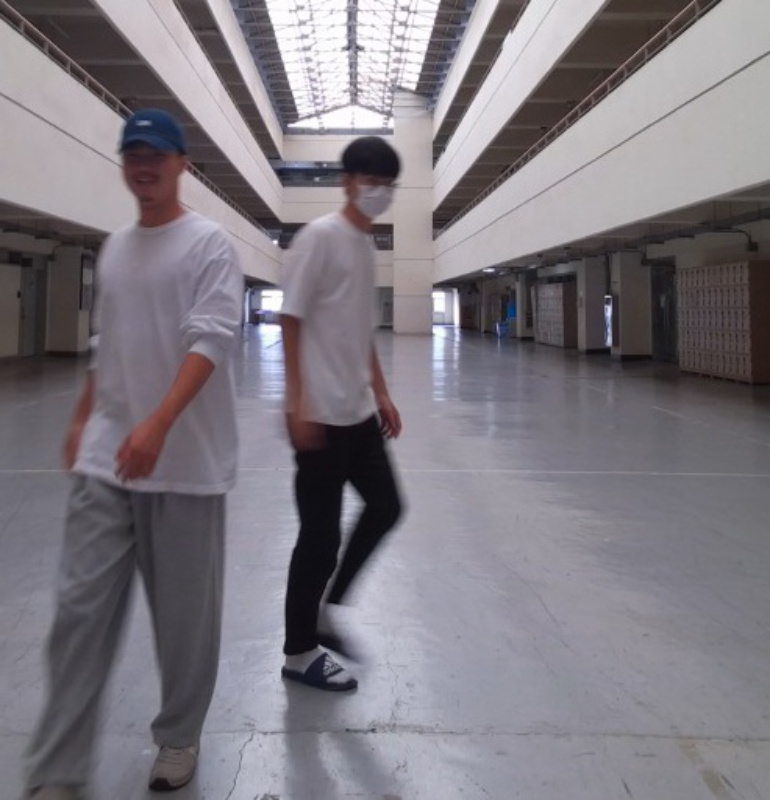person: (4, 105, 244, 800)
